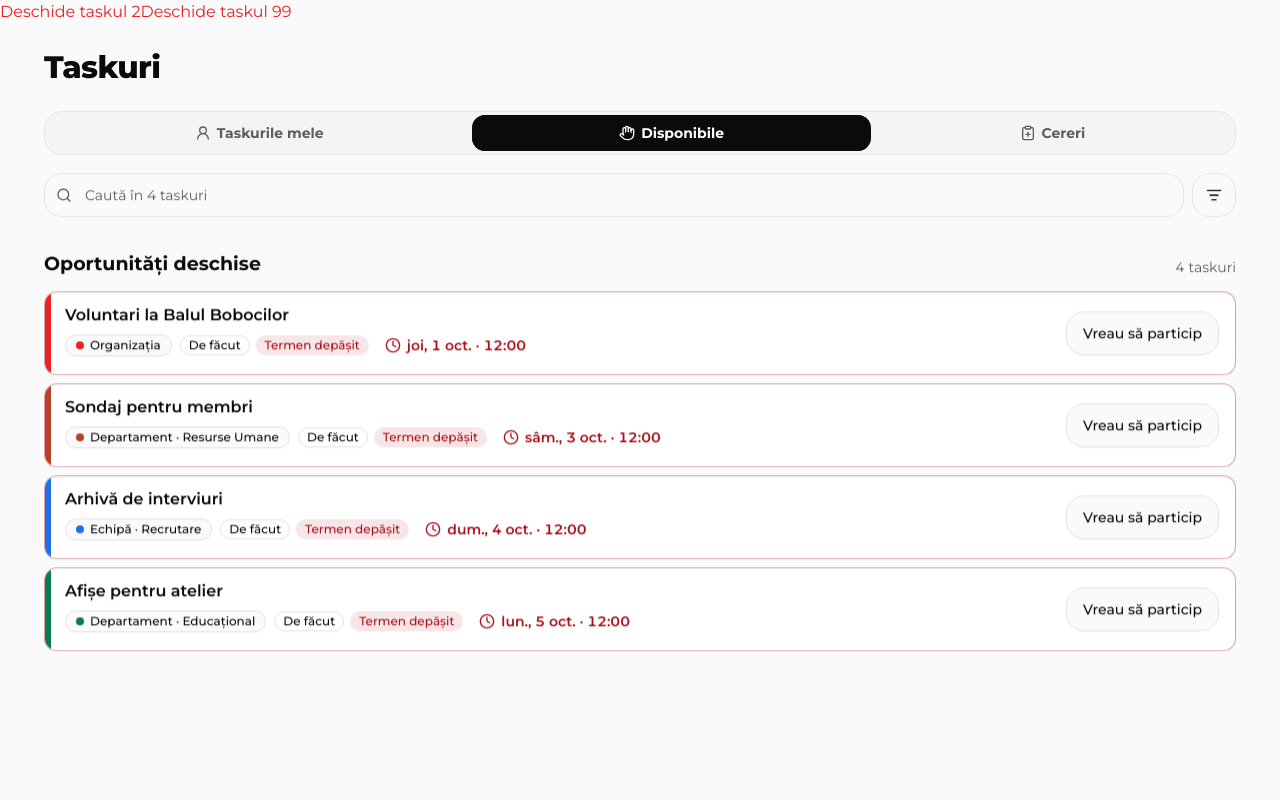
My tasks screen › Disponibile (ruling R26) › confirms a join with the queue place, never an Executor selection
Click the tab "Disponibile". click: click(672, 133)
box: [472,115,871,151]
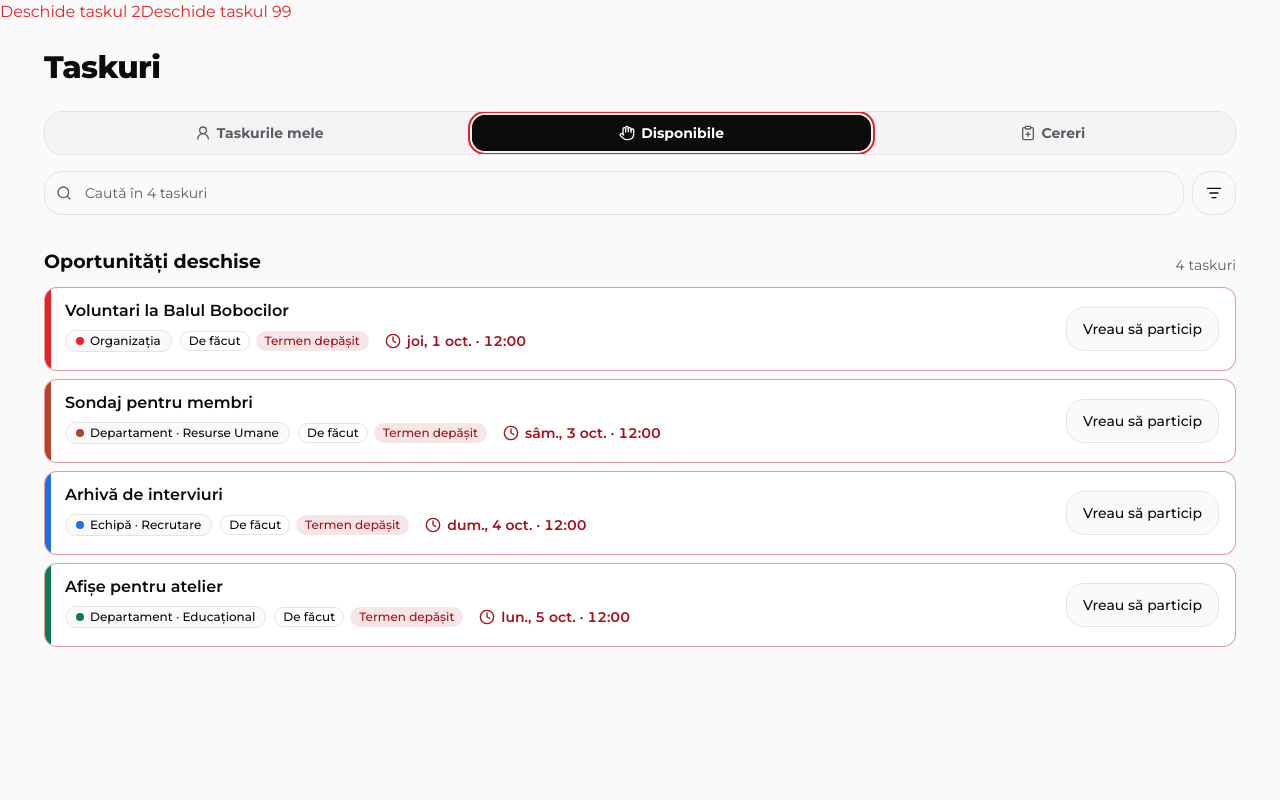
Click the button "Vreau să particip" in the row of "sâm., 3 oct. · 12:00". click: click(1142, 421)
box: [1066,399,1219,443]
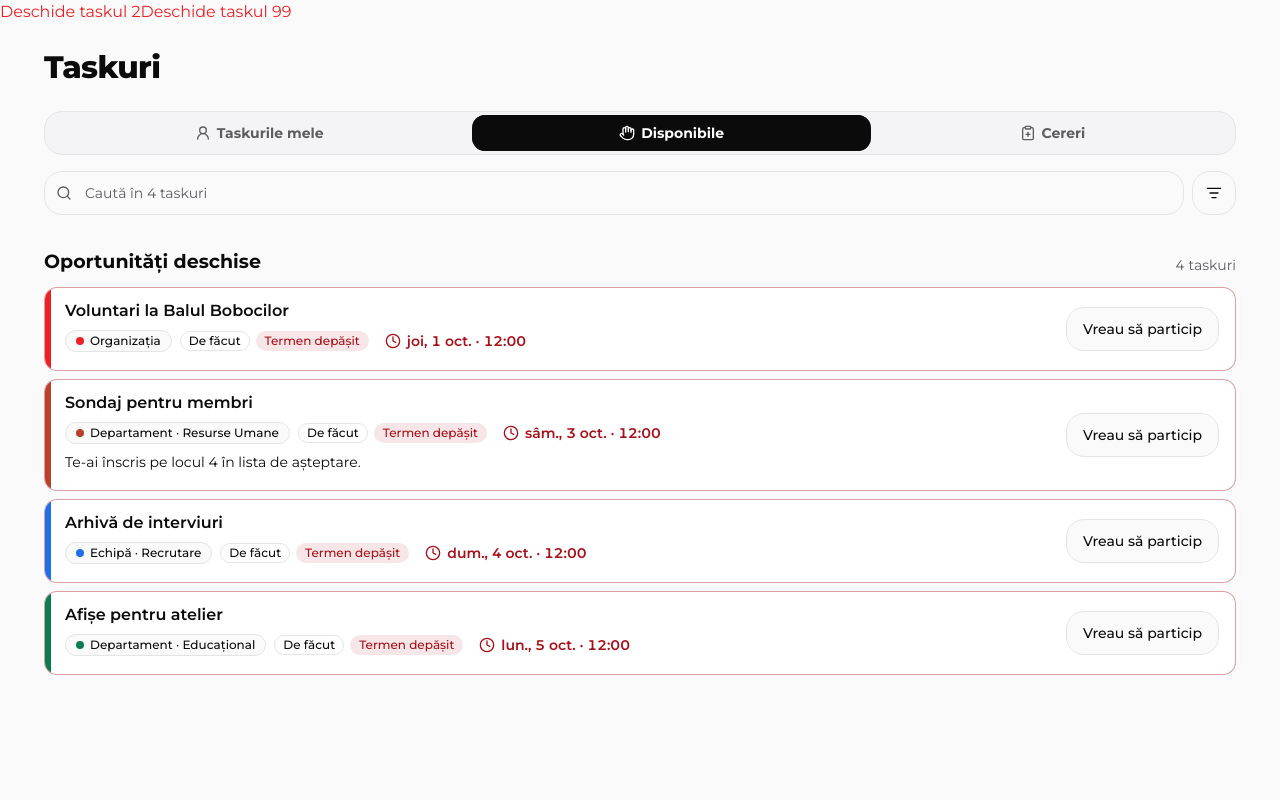
Check: the text "Te-ai înscris pe locul 4 în lista de așteptare." is shown, box [65,453,361,471]
